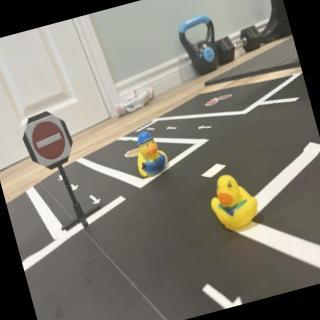duck_regular: (203, 165, 267, 237)
duck_specialty: (129, 126, 173, 181)
road_oneway: (200, 274, 246, 314), (88, 190, 104, 209), (197, 121, 214, 135), (166, 122, 182, 135), (70, 180, 83, 194), (55, 170, 66, 184), (147, 125, 157, 134)
sign_noentry: (24, 112, 76, 171)
